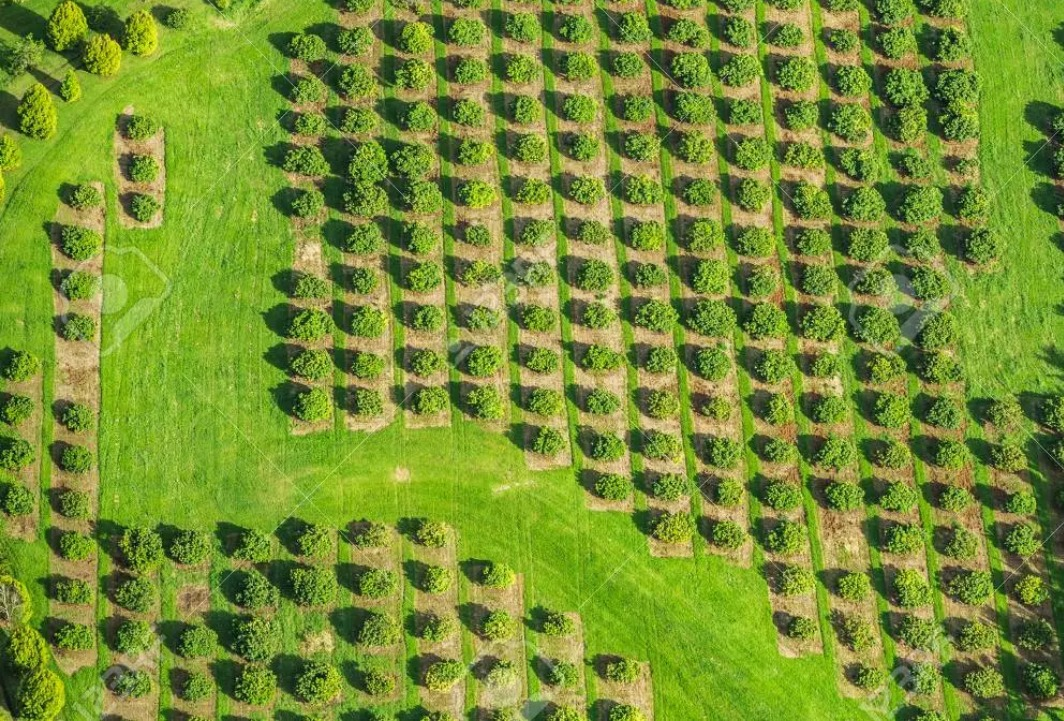TREE: (15, 669, 66, 721), (230, 615, 285, 663), (43, 1, 89, 51), (16, 83, 57, 139), (118, 526, 164, 574), (6, 627, 50, 676), (293, 661, 341, 705), (287, 565, 338, 606), (934, 67, 985, 107), (686, 300, 738, 338), (6, 31, 46, 79), (852, 306, 902, 344), (827, 101, 872, 143), (284, 306, 336, 342), (176, 616, 219, 659), (938, 99, 981, 142), (235, 661, 277, 705), (1017, 660, 1062, 701), (348, 142, 388, 188), (884, 66, 930, 106), (121, 9, 159, 57), (743, 302, 791, 340), (798, 304, 847, 341), (891, 568, 934, 610), (82, 32, 122, 77), (235, 570, 281, 609), (356, 611, 403, 649), (896, 185, 943, 223), (761, 518, 810, 554), (812, 431, 854, 473), (916, 309, 956, 352), (462, 383, 506, 422), (792, 180, 834, 220), (113, 575, 156, 614), (905, 264, 950, 301), (1, 574, 34, 624), (281, 143, 331, 176), (717, 53, 764, 88), (920, 350, 967, 385), (946, 570, 993, 605), (888, 102, 928, 143), (893, 615, 936, 653), (390, 142, 434, 179), (841, 186, 886, 222), (61, 223, 102, 262), (669, 52, 712, 89), (774, 562, 817, 599), (775, 56, 818, 93), (847, 225, 889, 262), (634, 300, 679, 334), (343, 184, 389, 217), (861, 351, 907, 384), (170, 530, 213, 565), (754, 349, 798, 383), (338, 62, 377, 100), (874, 390, 912, 429), (964, 664, 1005, 700), (682, 217, 724, 252), (1013, 616, 1055, 651), (289, 349, 336, 380), (734, 136, 775, 171), (652, 512, 698, 543), (904, 225, 943, 261), (291, 387, 331, 422), (801, 262, 841, 297), (1003, 524, 1043, 559), (875, 27, 917, 60), (665, 18, 711, 48), (581, 343, 632, 370), (401, 180, 444, 212), (625, 174, 668, 206), (296, 523, 333, 560), (117, 620, 155, 656), (692, 259, 730, 295), (349, 305, 388, 340), (339, 222, 383, 253), (884, 522, 925, 555), (735, 227, 778, 258), (934, 26, 971, 62), (233, 528, 271, 563), (963, 226, 998, 264), (403, 259, 443, 292), (675, 130, 715, 163), (673, 93, 717, 123), (851, 268, 898, 296), (425, 659, 466, 691), (643, 430, 684, 462), (956, 180, 988, 221), (925, 393, 962, 428), (944, 522, 979, 559), (466, 345, 504, 379), (615, 11, 653, 45), (285, 33, 328, 63), (762, 481, 805, 511), (783, 141, 826, 171), (59, 270, 99, 302), (878, 480, 918, 512), (1010, 575, 1050, 607), (395, 59, 437, 89), (403, 219, 439, 254), (823, 481, 865, 511), (842, 616, 877, 652), (694, 347, 731, 381), (575, 259, 613, 292), (835, 65, 873, 98), (5, 350, 44, 382), (358, 569, 398, 600), (59, 529, 95, 563), (746, 264, 782, 298), (933, 437, 970, 470), (592, 473, 634, 502), (504, 11, 542, 43), (873, 438, 912, 469), (399, 21, 435, 54), (114, 669, 151, 701), (401, 100, 439, 131), (457, 178, 495, 209), (782, 100, 820, 131), (504, 54, 543, 84), (709, 436, 744, 469), (736, 178, 771, 211), (836, 147, 872, 179), (959, 621, 995, 653), (559, 52, 597, 82), (410, 387, 449, 416), (1, 393, 35, 426), (1, 439, 37, 470), (480, 610, 516, 641), (337, 26, 374, 56), (449, 17, 487, 46), (458, 137, 496, 166), (624, 132, 662, 161), (528, 388, 567, 416), (531, 425, 565, 457), (760, 392, 792, 426), (907, 662, 939, 696), (181, 672, 216, 703), (646, 390, 681, 421), (54, 624, 94, 651), (340, 107, 380, 134), (630, 221, 666, 251), (763, 437, 803, 464), (567, 175, 604, 204), (520, 304, 558, 332), (4, 484, 37, 516), (592, 429, 625, 461), (55, 578, 94, 605), (562, 93, 597, 123), (837, 571, 872, 601), (421, 615, 458, 643), (680, 178, 717, 206), (986, 399, 1023, 427), (515, 177, 553, 204), (518, 219, 556, 246), (652, 474, 690, 501), (559, 14, 593, 44), (646, 345, 681, 374), (812, 396, 847, 425), (1038, 395, 1064, 434), (354, 521, 390, 549), (580, 303, 617, 330), (991, 444, 1028, 471), (127, 152, 159, 183), (60, 444, 93, 474), (508, 95, 541, 125), (292, 273, 330, 299), (516, 262, 554, 288), (611, 50, 645, 79), (288, 77, 323, 105), (350, 351, 385, 379), (462, 260, 501, 285), (61, 314, 97, 341), (585, 388, 621, 415), (728, 99, 764, 126), (795, 229, 832, 255), (129, 193, 162, 222), (363, 668, 396, 697), (567, 132, 600, 161), (481, 562, 515, 590), (408, 350, 442, 378), (606, 657, 642, 683), (722, 16, 752, 47), (61, 404, 93, 433), (938, 485, 971, 513), (291, 190, 325, 217), (67, 185, 102, 211), (517, 133, 548, 162), (58, 490, 90, 518), (411, 304, 443, 332), (623, 94, 655, 122), (416, 520, 449, 547), (454, 58, 487, 85), (466, 305, 500, 331), (770, 23, 804, 49), (575, 220, 611, 244), (547, 662, 580, 688), (712, 522, 745, 548), (526, 348, 560, 373), (486, 659, 521, 683), (354, 388, 384, 416), (452, 99, 482, 127), (422, 566, 453, 593), (635, 263, 667, 289), (827, 27, 859, 53), (292, 111, 326, 135), (875, 1, 909, 25), (899, 155, 936, 177), (716, 479, 745, 507), (543, 613, 578, 636), (1, 134, 23, 170), (699, 397, 732, 421), (126, 115, 158, 139), (808, 353, 838, 378), (1005, 492, 1037, 515), (351, 267, 378, 294), (930, 1, 970, 19), (855, 666, 883, 691), (788, 617, 817, 640), (60, 69, 81, 99), (165, 7, 192, 30), (608, 704, 644, 721), (952, 157, 982, 176), (465, 225, 490, 246), (908, 709, 948, 721), (1049, 110, 1064, 142), (548, 707, 582, 721), (1050, 145, 1064, 179), (1049, 439, 1064, 469), (718, 1, 755, 13), (762, 1, 805, 11), (344, 1, 375, 13), (494, 707, 517, 721), (827, 1, 859, 11), (424, 710, 453, 721), (663, 1, 701, 9), (1056, 199, 1064, 220)
